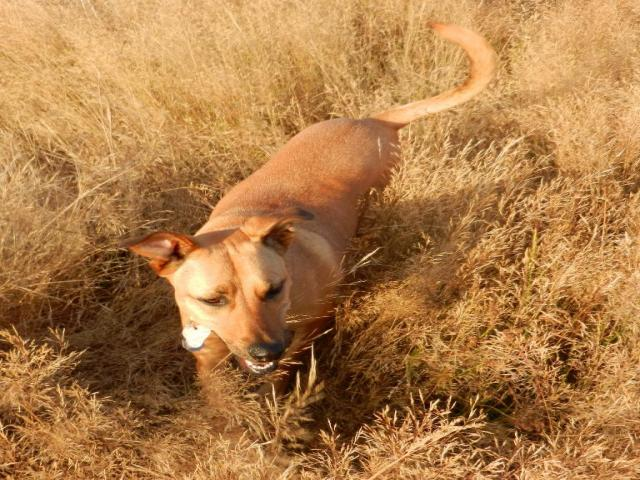Dog: (117, 17, 495, 393)
